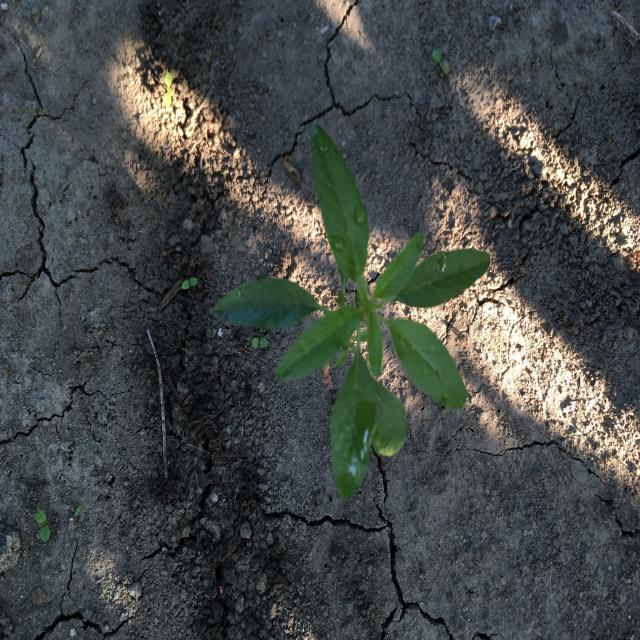Waterhemp: (212, 122, 492, 505)
